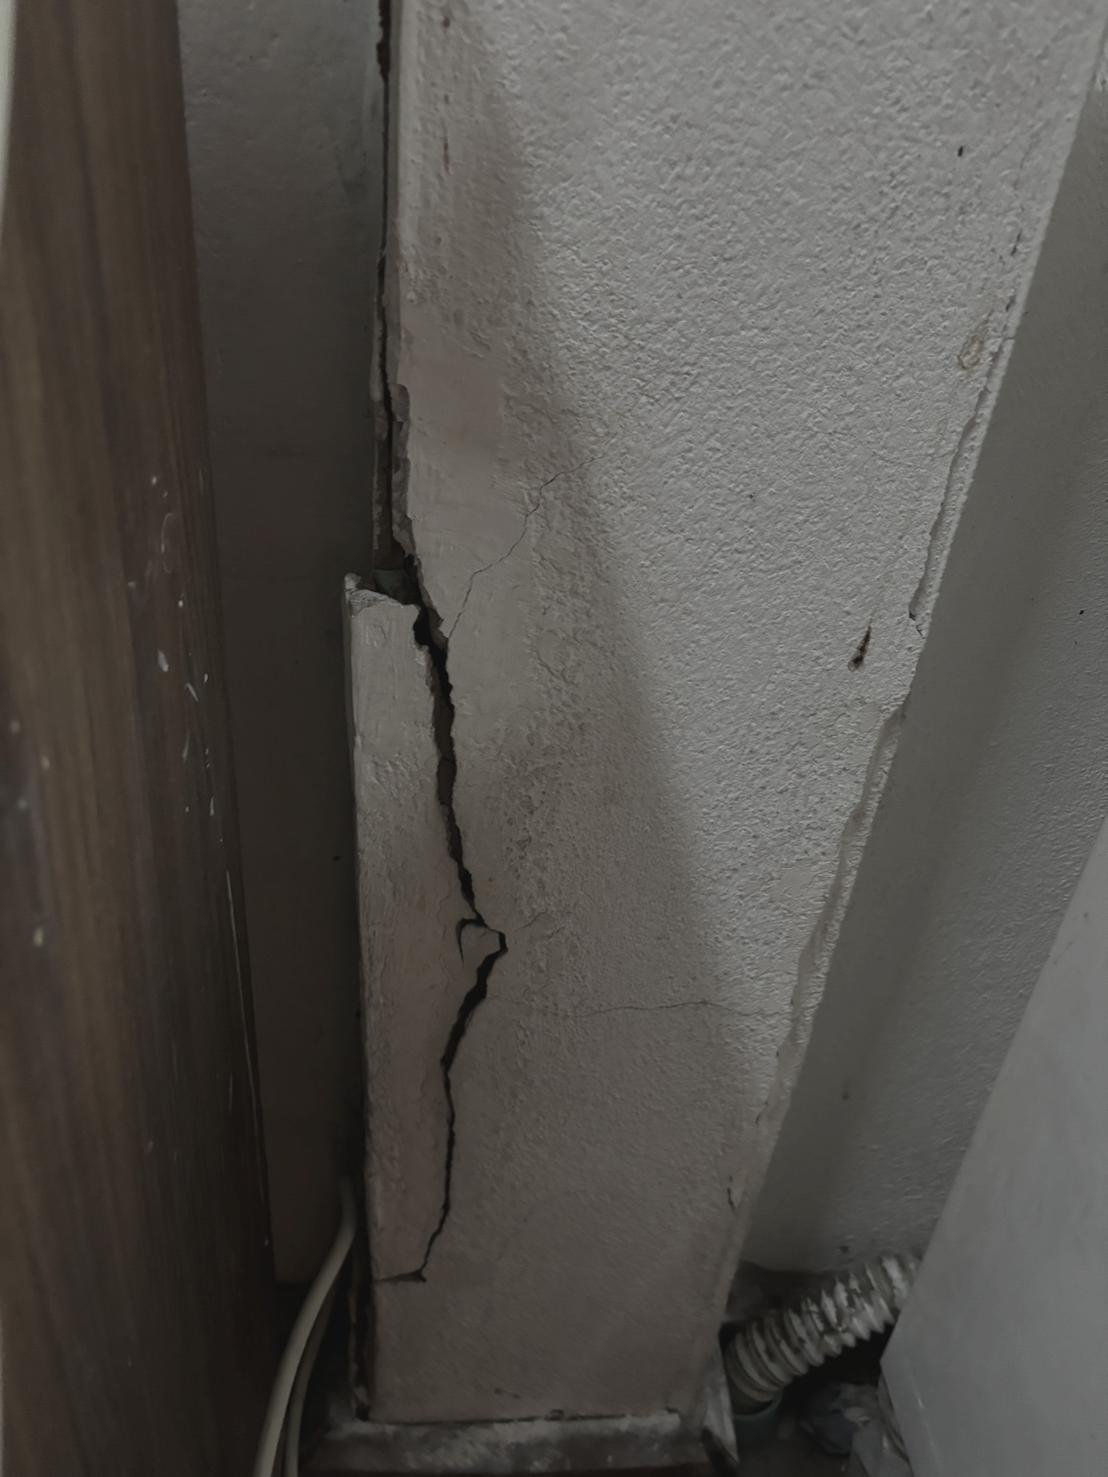High: (209, 3, 530, 1321)
